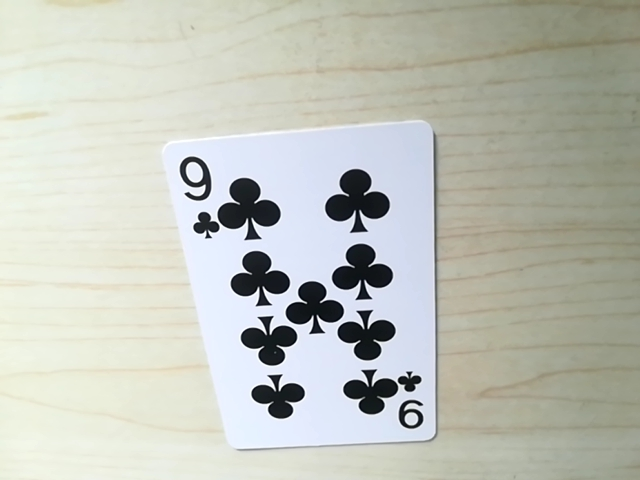mh 9: (174, 150, 219, 235), (389, 375, 429, 433)
